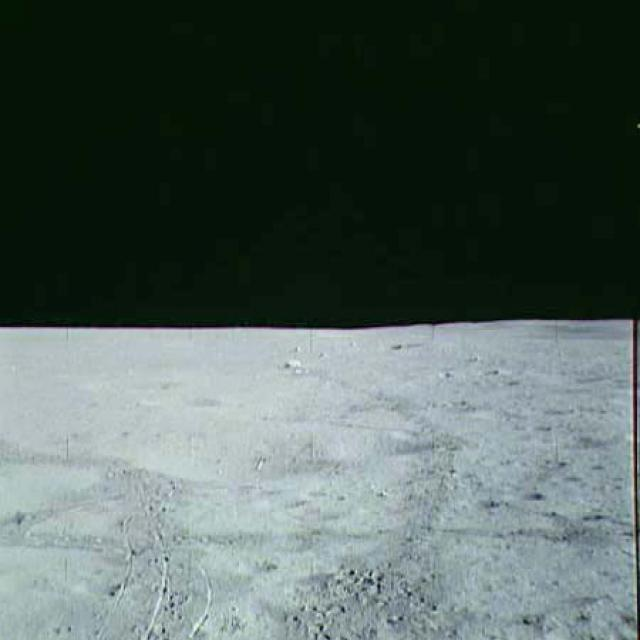crater: (124, 424, 314, 510), (0, 447, 125, 551), (290, 417, 461, 471)
